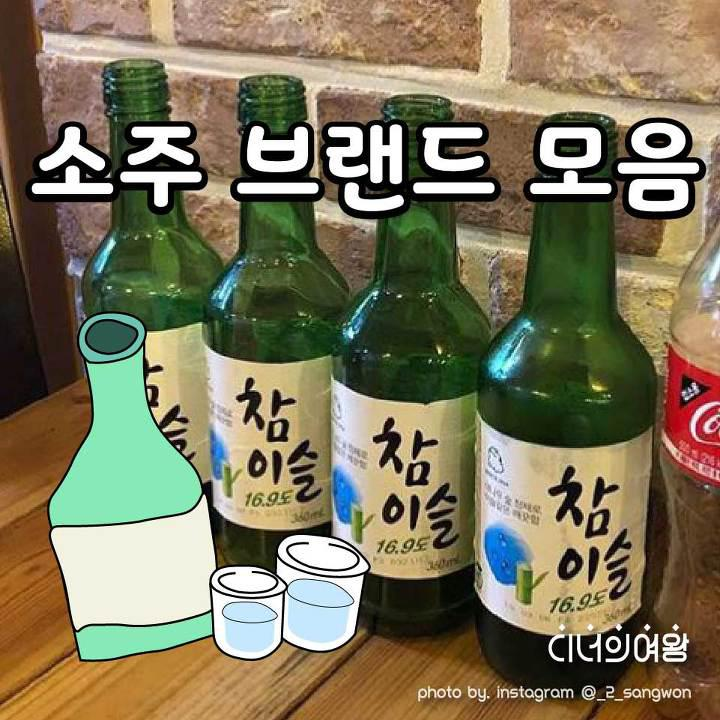soju: (75, 59, 657, 682)
